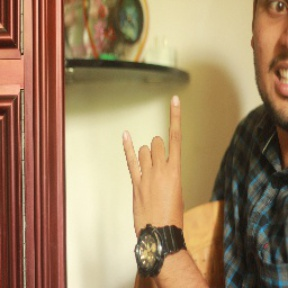V: (121, 94, 198, 238)
